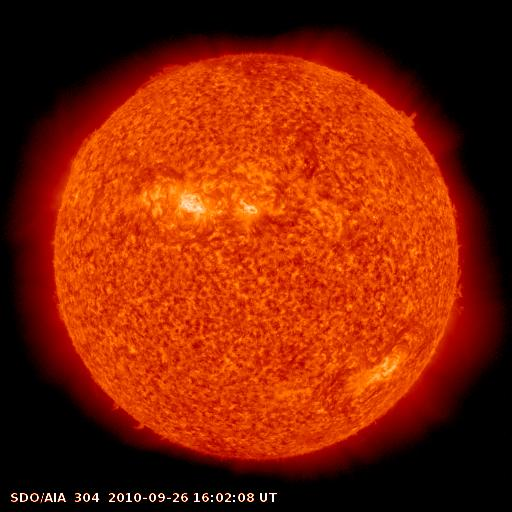prominence: (128, 55, 193, 99), (446, 238, 476, 326), (387, 96, 434, 141)
